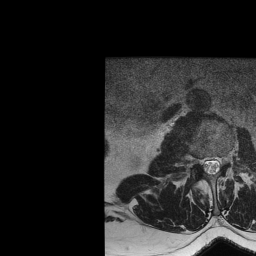CCS_normal: (208, 149, 214, 180)
LFS_normal: (221, 147, 228, 170)
LLS_normal: (214, 149, 221, 176)
RFS_stenosis: (195, 149, 202, 171)
RLS_normal: (202, 149, 208, 178)
